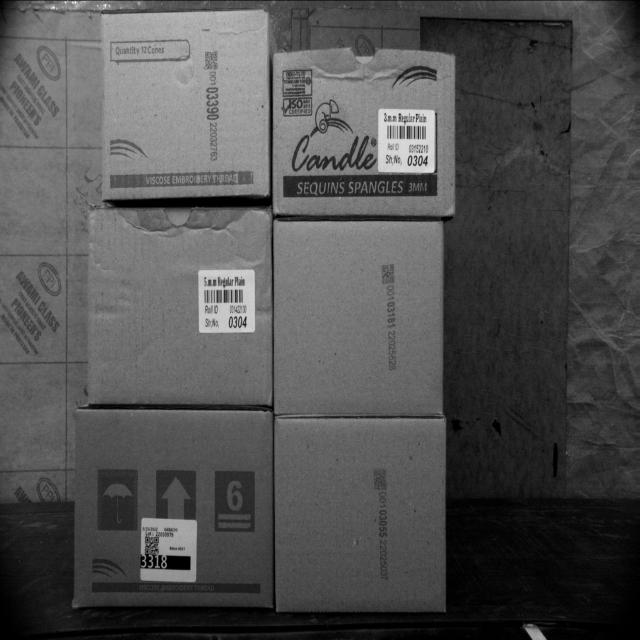cardboxes: (76, 408, 272, 607), (90, 209, 274, 408), (273, 218, 446, 414), (273, 417, 449, 609), (100, 8, 272, 200), (275, 50, 458, 216)
